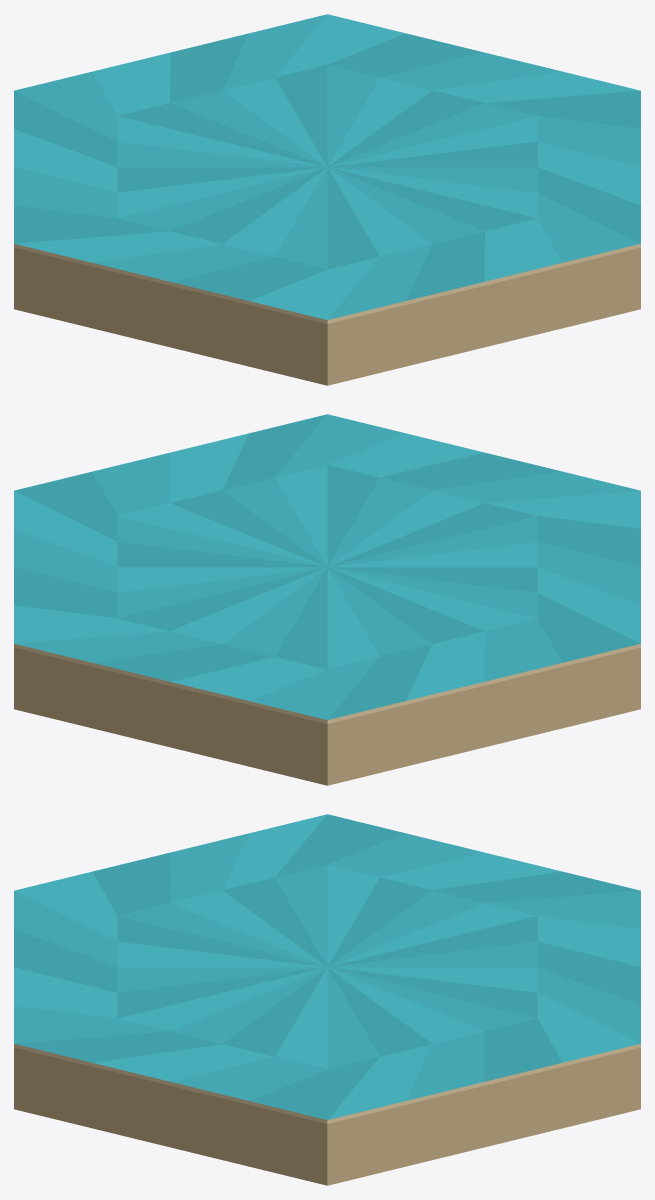
File: terrain.glb
3 views of the same model, one above another, from view 1: azimuth 30°, elevation 25°; view 2: azimuth 150°, elevation 25°; view 3: azimuth 270°, elevation 25° (orthographic).
Parts seen in each view (by area): view 1: Tile_骏鹰王国; view 2: Tile_骏鹰王国; view 3: Tile_骏鹰王国.
Part boxes in pixels (box(x1,y1,x2,y2)): Tile_骏鹰王国: box(14, 14, 640, 385); Tile_骏鹰王国: box(14, 414, 640, 785); Tile_骏鹰王国: box(14, 814, 640, 1185).
Bounding box in the file's own units: 2 × 0.2 × 1.73.
